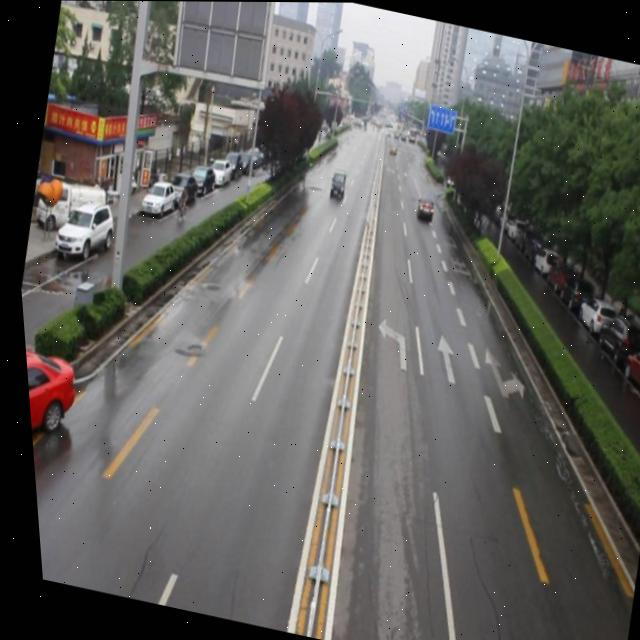car: (20, 342, 83, 479), (409, 194, 432, 220)
truck: (322, 166, 346, 202)
